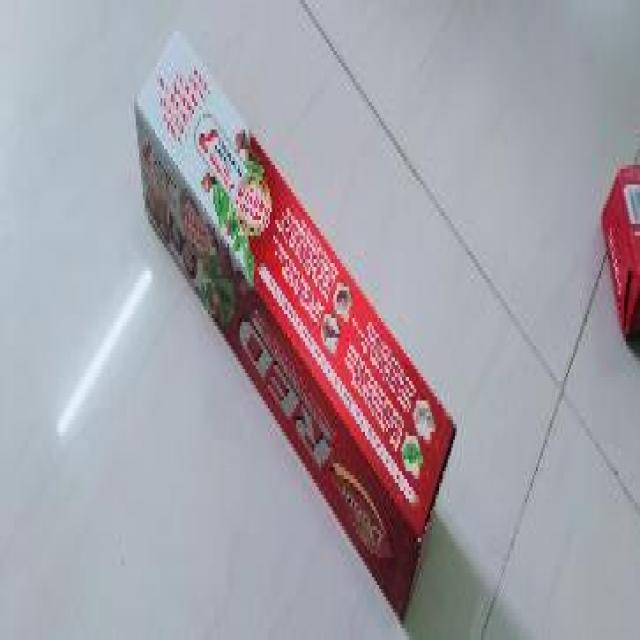tooth paste: (122, 15, 458, 602)
